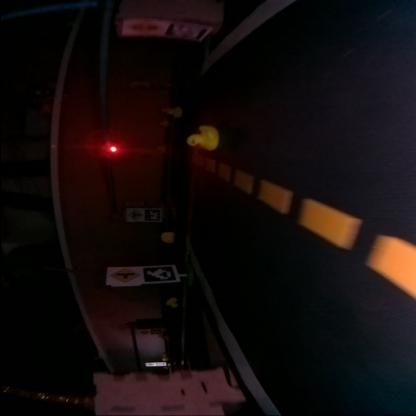Duckie: (185, 126, 213, 148), (164, 297, 178, 306), (160, 232, 172, 242), (166, 107, 180, 115)
Intersection sign: (108, 267, 138, 282), (127, 209, 140, 220)
QR code: (165, 22, 207, 39), (142, 266, 176, 282), (143, 208, 159, 220)
Signal sign: (126, 18, 157, 34)
Traffic light: (102, 143, 118, 153)
